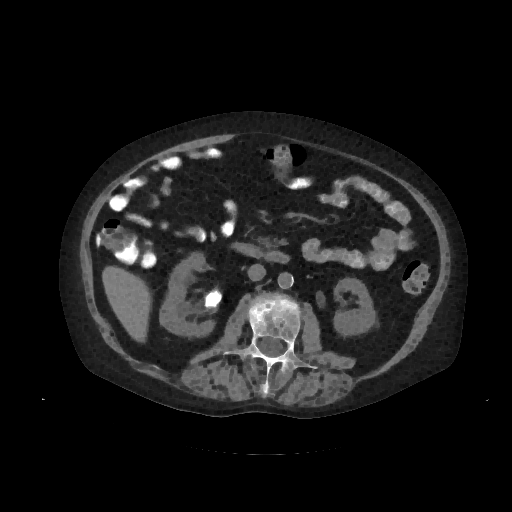Lesion: (199, 285, 225, 313)
